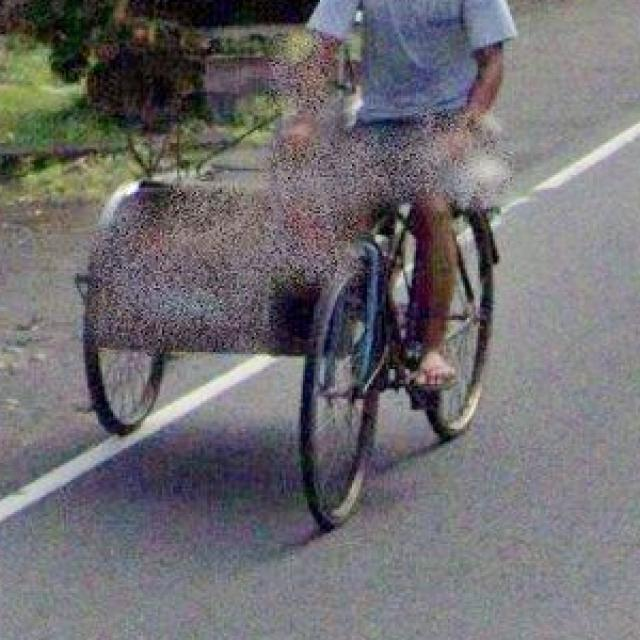bicycle: (29, 46, 562, 536)
